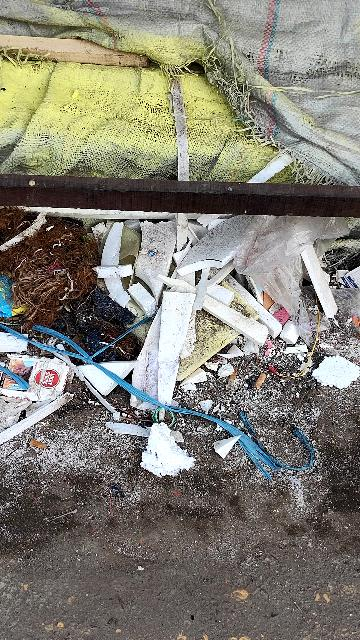cocksheet: (72, 174, 283, 389), (128, 418, 203, 488), (81, 353, 140, 398), (315, 350, 360, 396)
